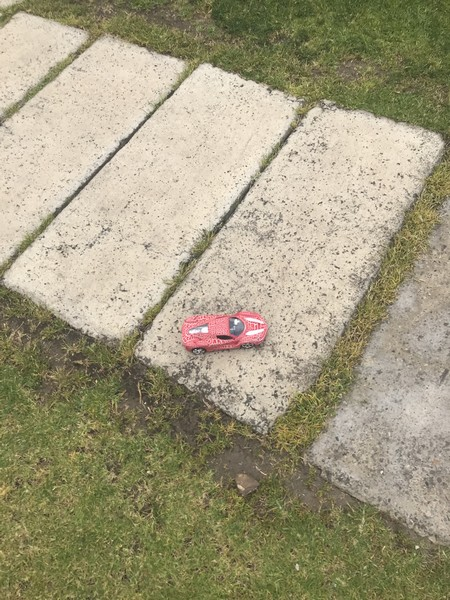RC: (180, 308, 269, 355)
